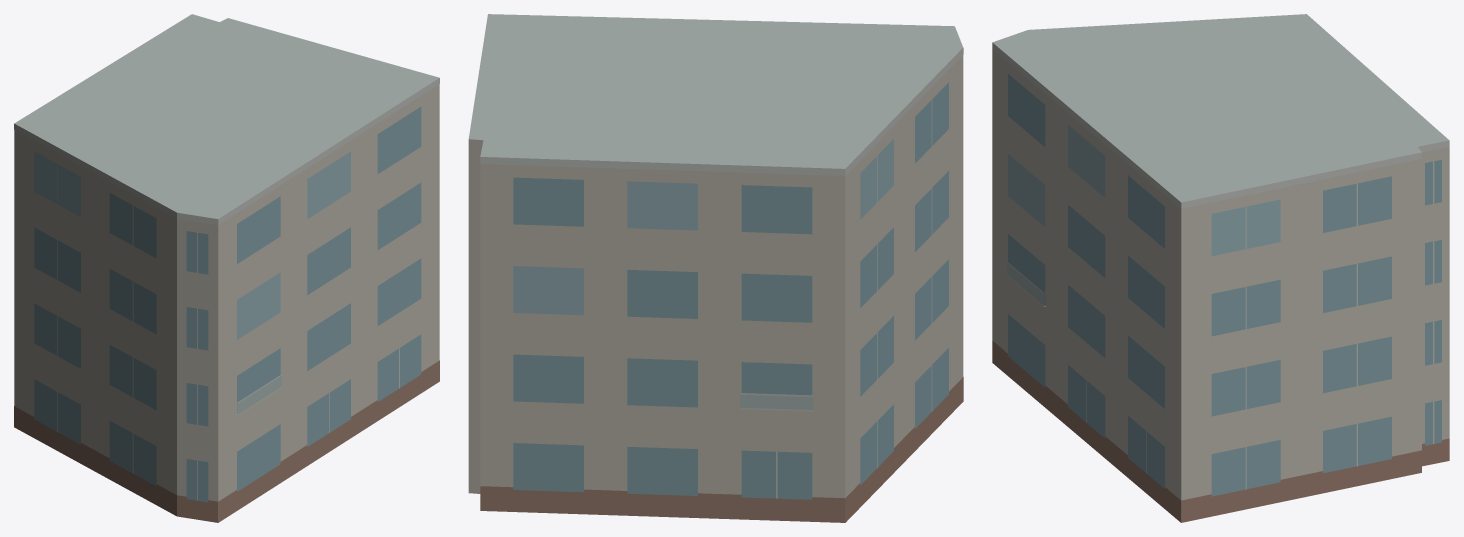
File: survey-upis-32809885.glb
The picture shows the model from 3 angles, left to right: view 1: azimuth 30°, elevation 25°; view 2: azimuth 150°, elevation 25°; view 3: azimuth 270°, elevation 25°; orthographic projection. The views are drawn at different scales.
Parts seen in each view (by area): view 1: survey-upis-32809885.tmp; view 2: survey-upis-32809885.tmp; view 3: survey-upis-32809885.tmp.
Part boxes in pixels (bbox=[...]): survey-upis-32809885.tmp: bbox=[14, 14, 439, 522]; survey-upis-32809885.tmp: bbox=[468, 14, 963, 522]; survey-upis-32809885.tmp: bbox=[992, 14, 1449, 522].
Bounding box in the file's own units: 15.27 × 12.1 × 15.66.
